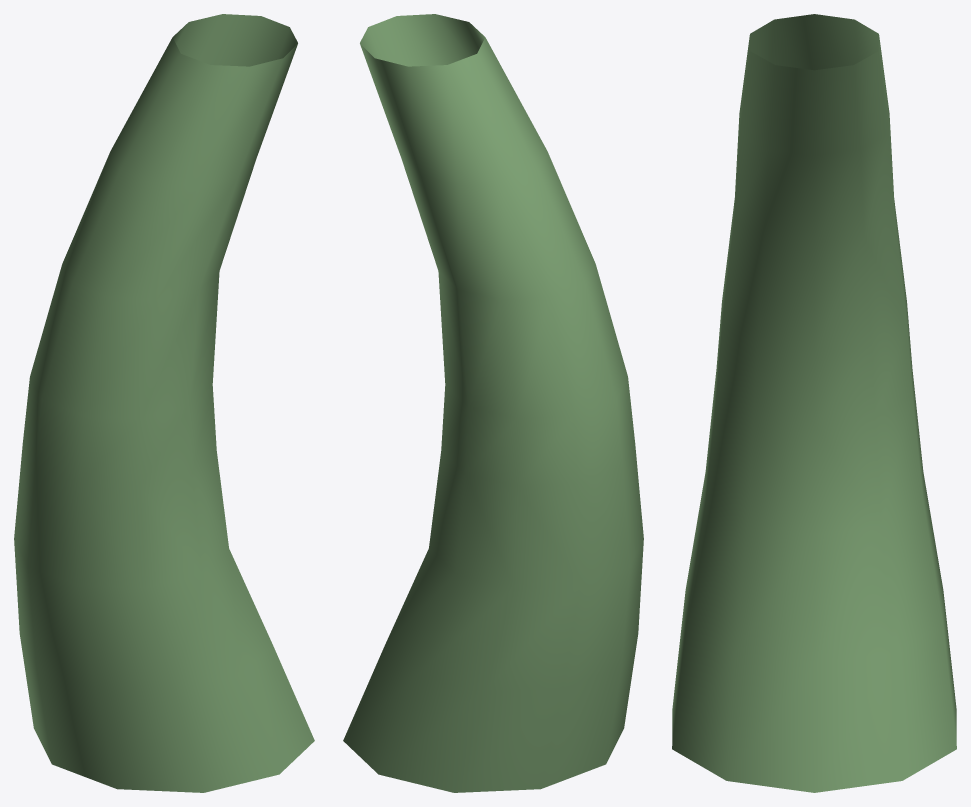
The model's file is Tallo_4.fbx.
3 views of the same model, side by side, from view 1: azimuth 30°, elevation 25°; view 2: azimuth 150°, elevation 25°; view 3: azimuth 270°, elevation 25° (orthographic). The views are drawn at different scales.
Visible parts, largest first — view 1: Tallo_4; view 2: Tallo_4; view 3: Tallo_4.
Boxes of the visible parts, left/top/right/bottom form: Tallo_4: left=14, top=14, right=314, bottom=792; Tallo_4: left=343, top=14, right=643, bottom=792; Tallo_4: left=672, top=14, right=956, bottom=792.
Size of the model in its own units: 0.4238 by 1.02 by 0.3673.
